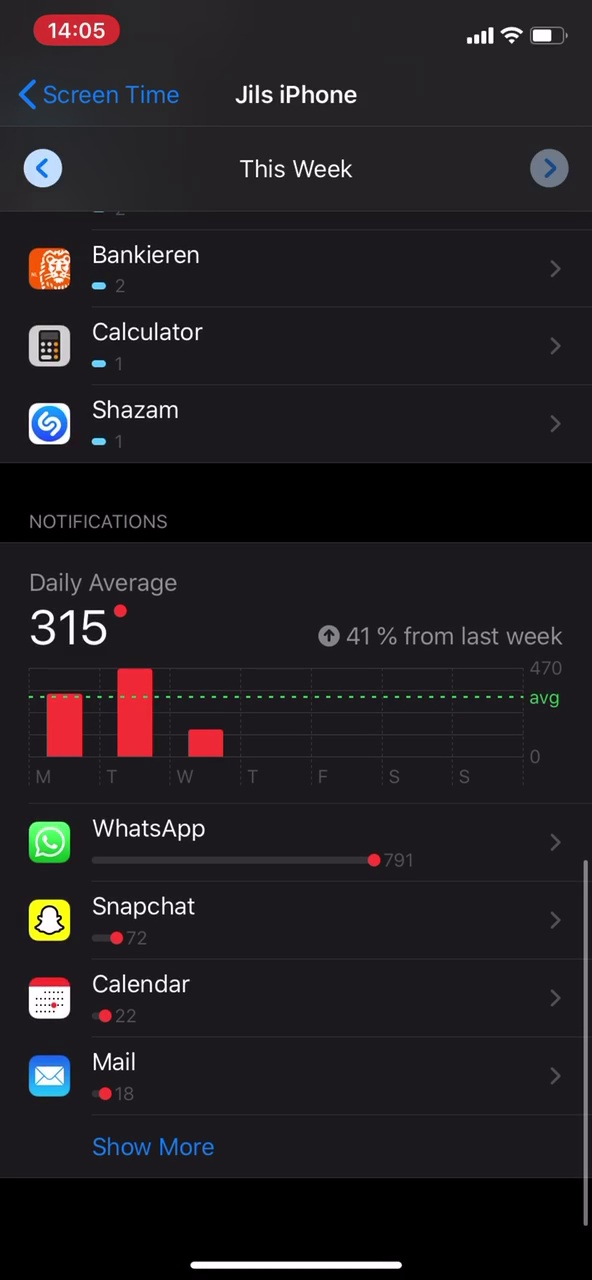not_app: (25, 802, 436, 885), (17, 892, 232, 953), (18, 966, 228, 1027), (18, 1047, 212, 1113)
not_over: (25, 503, 212, 658)
pick_app: (31, 225, 265, 297), (15, 396, 254, 458), (18, 317, 267, 375)
week: (219, 148, 362, 193)
